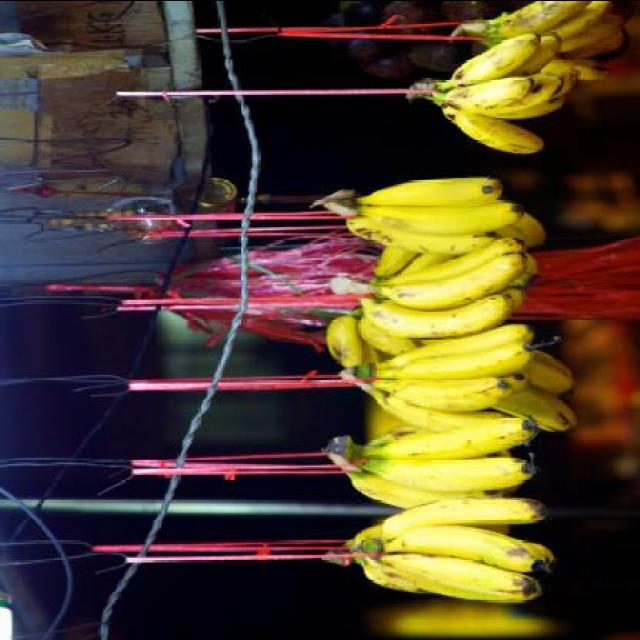Banana: (318, 1, 628, 602)
